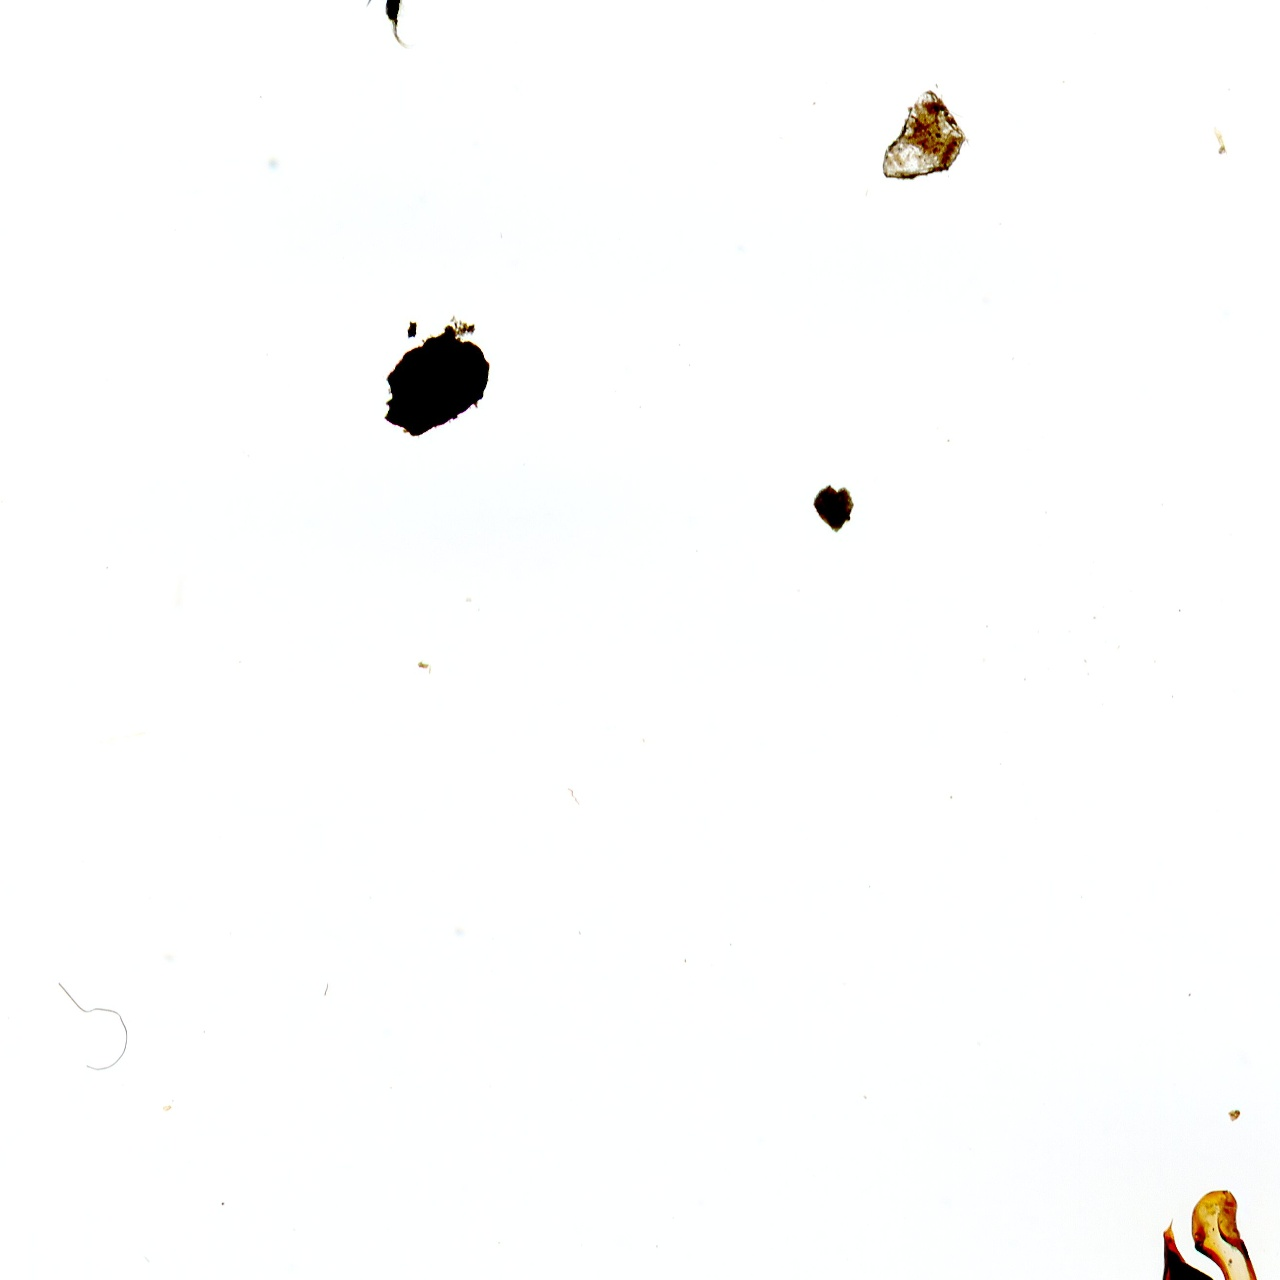arthropod: (361, 0, 417, 48)
